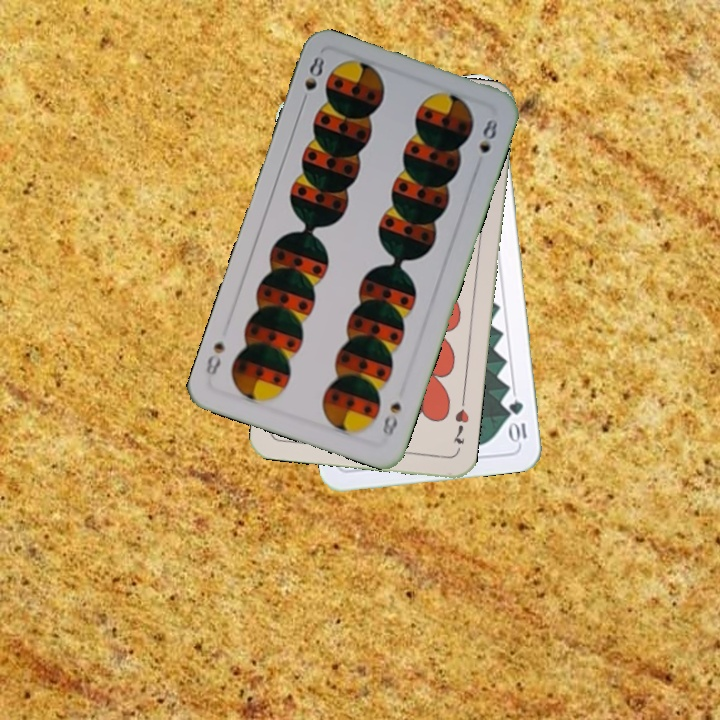G10: (505, 395, 529, 446)
H7: (449, 405, 472, 447)
S8: (297, 52, 327, 109), (378, 398, 404, 440)
